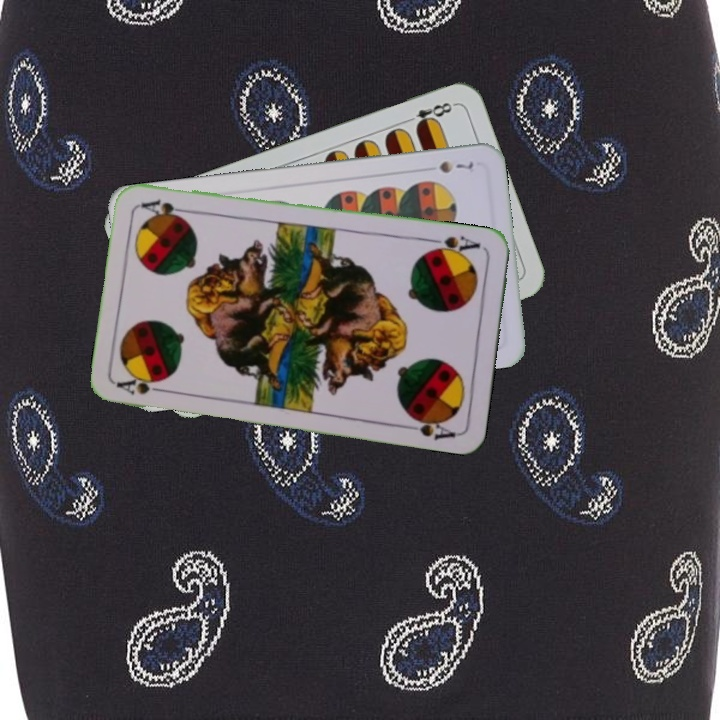E8: (400, 98, 458, 132)
S7: (435, 157, 479, 176)
SA: (113, 371, 172, 398), (425, 232, 483, 259)
